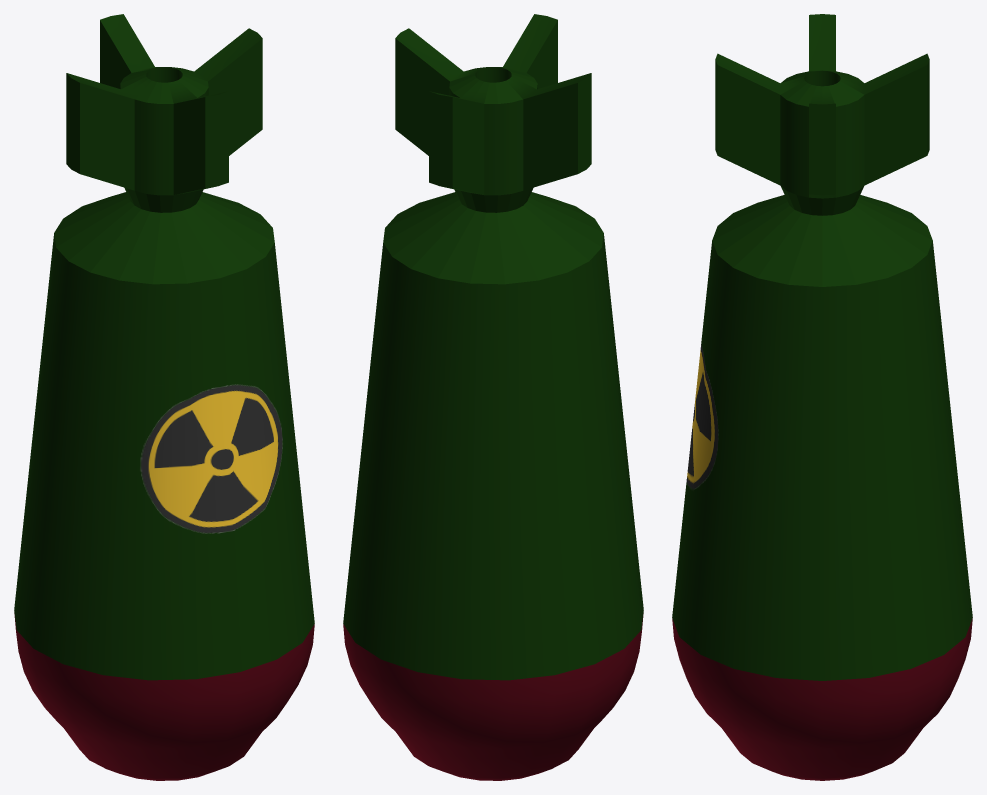
File: Bomb_Atom.fbx
3 views of the same model, side by side, from view 1: azimuth 30°, elevation 25°; view 2: azimuth 150°, elevation 25°; view 3: azimuth 270°, elevation 25° (orthographic).
Parts seen in each view (by area): view 1: atom; view 2: atom; view 3: atom.
Part boxes in pixels (x1=…): atom: x1=14, y1=14, x2=314, y2=780; atom: x1=343, y1=14, x2=643, y2=780; atom: x1=672, y1=14, x2=972, y2=780.
Size of the model in its own units: 0.2988 by 0.7843 by 0.2988.
Materials: 1 (1 with a texture image).
